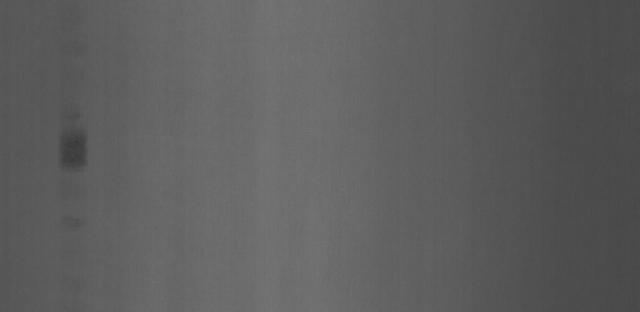oil_spot: (54, 111, 94, 180)
